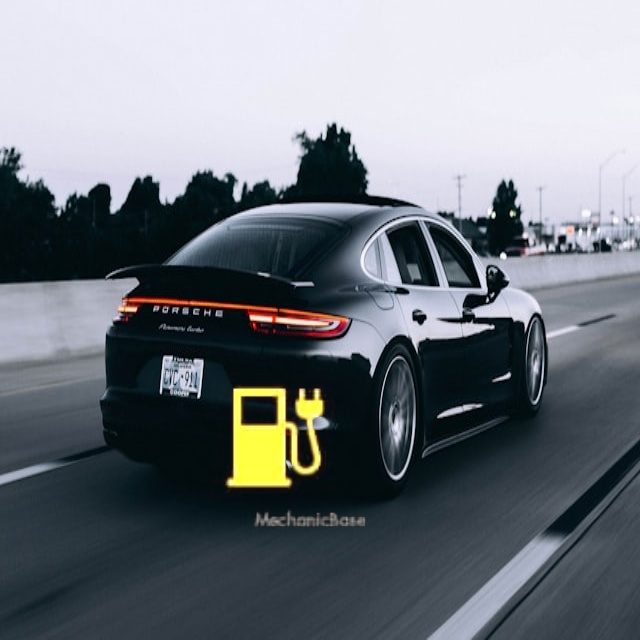symbol: (179, 342, 373, 536)
